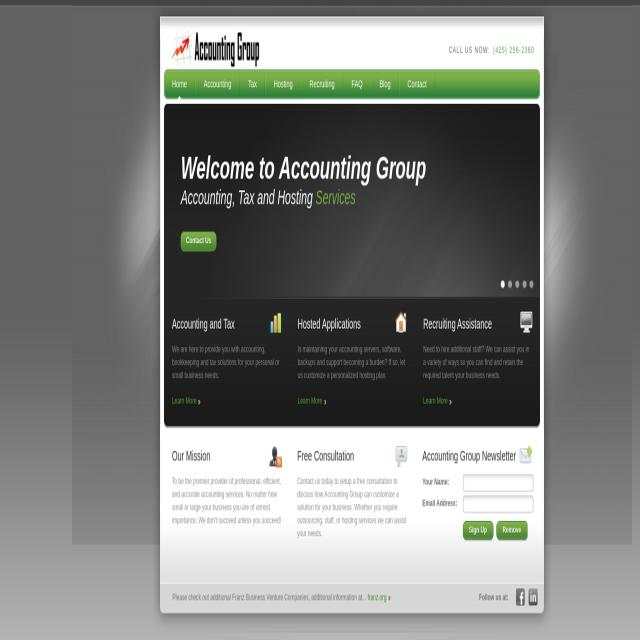button: (171, 29, 260, 68), (198, 70, 237, 99), (304, 70, 341, 98), (268, 70, 298, 99), (402, 70, 432, 99), (166, 70, 192, 99), (180, 232, 217, 250), (346, 70, 368, 99), (374, 70, 396, 99), (497, 522, 528, 540), (243, 70, 262, 99), (463, 522, 493, 540), (528, 589, 538, 607), (516, 589, 525, 607), (529, 279, 534, 290), (522, 280, 527, 290), (500, 280, 505, 290), (515, 280, 520, 290), (508, 280, 512, 290)
field: (464, 474, 534, 494), (464, 496, 534, 514)
